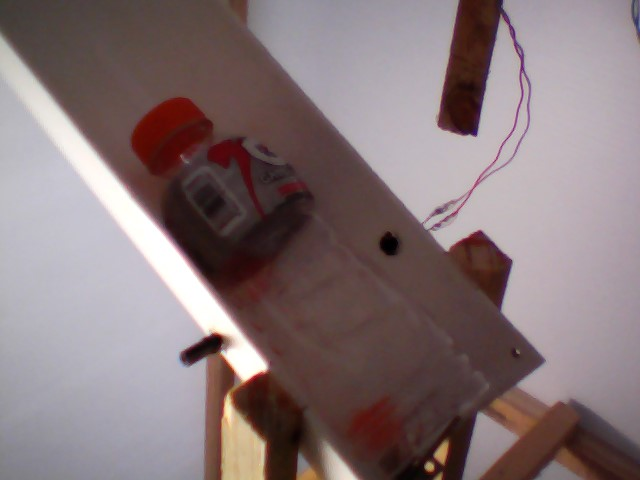plastico: (130, 95, 500, 480)
